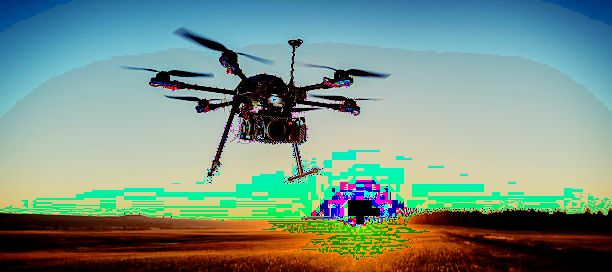Drone: (120, 20, 390, 185)
